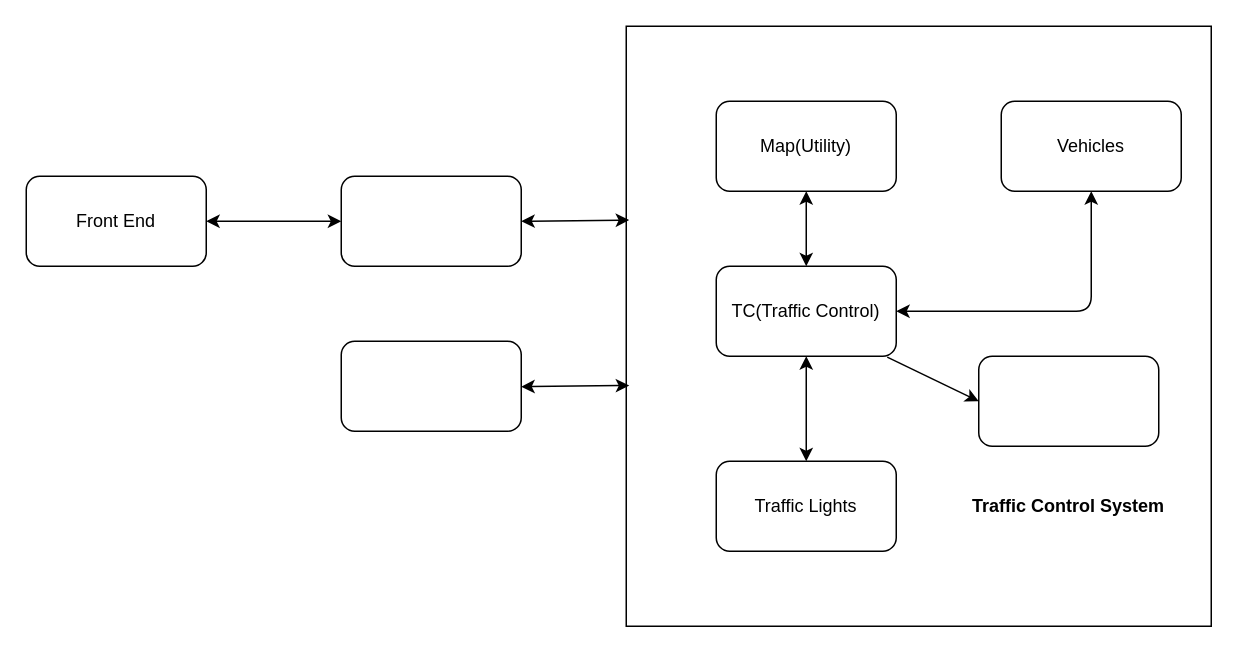
Image size: 1238x653. Some labels were removed from this diagram. Here are the shapes that lost their labels. From the top down, the box of each, then its label:
(340, 175, 521, 266): REST API(Django)
(340, 340, 521, 431): Testing(Simulation)
(977, 355, 1159, 446): Police Client
